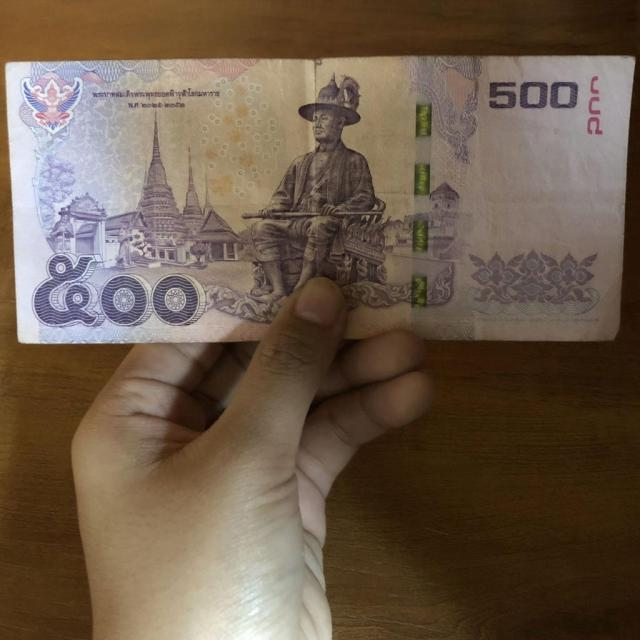THAI500: (7, 56, 634, 344)
